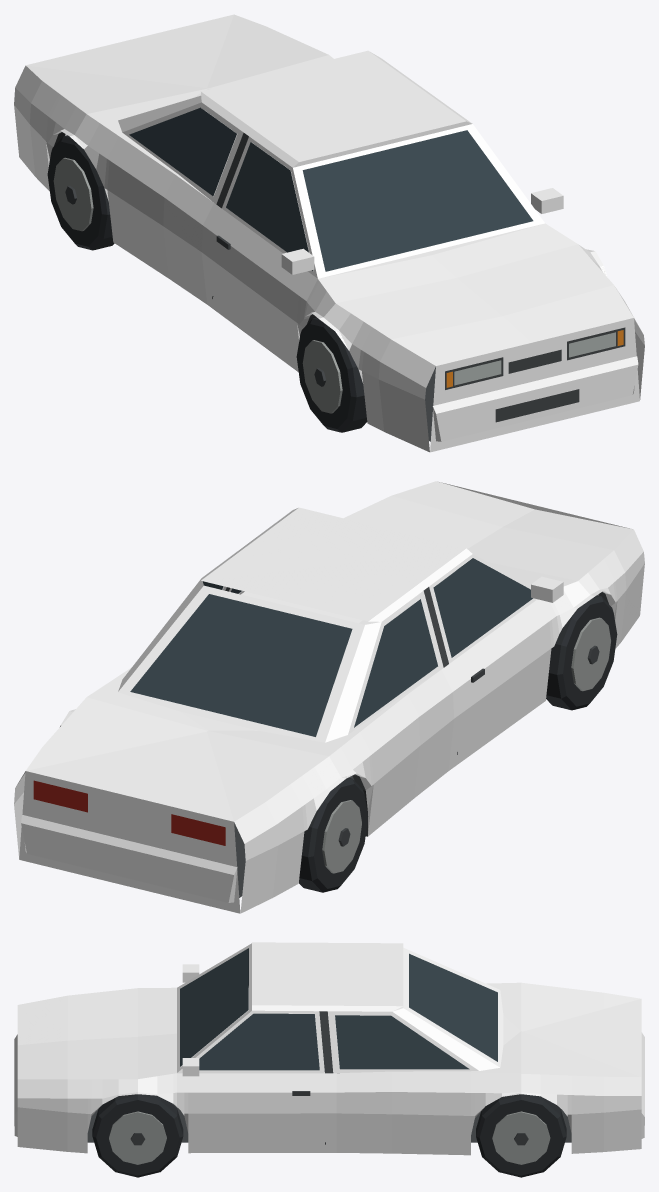
File: pemberly_teal.glb
The picture shows the model from 3 angles, top to bottom: view 1: azimuth 30°, elevation 25°; view 2: azimuth 150°, elevation 25°; view 3: azimuth 270°, elevation 25°; orthographic projection. The views are drawn at different scales.
Visible parts, largest first — view 1: pemberly_teal; view 2: pemberly_teal; view 3: pemberly_teal.
Boxes of the visible parts, bbox=[...] form: pemberly_teal: bbox=[14, 14, 644, 452]; pemberly_teal: bbox=[14, 481, 644, 913]; pemberly_teal: bbox=[14, 942, 644, 1177].
Size of the model in its own units: 1.77 by 1.23 by 4.54.
Materials: 8 (1 with a texture image).
